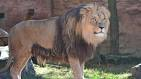lion: (5, 6, 111, 74)
